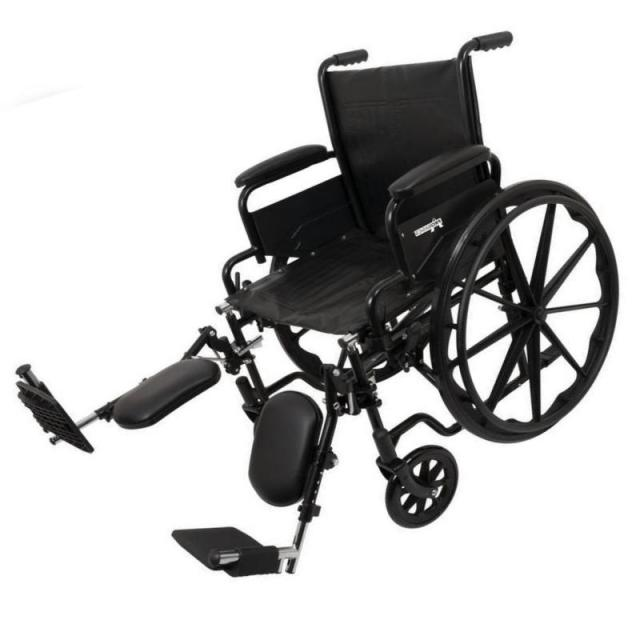wheelchair: (11, 22, 621, 589)
